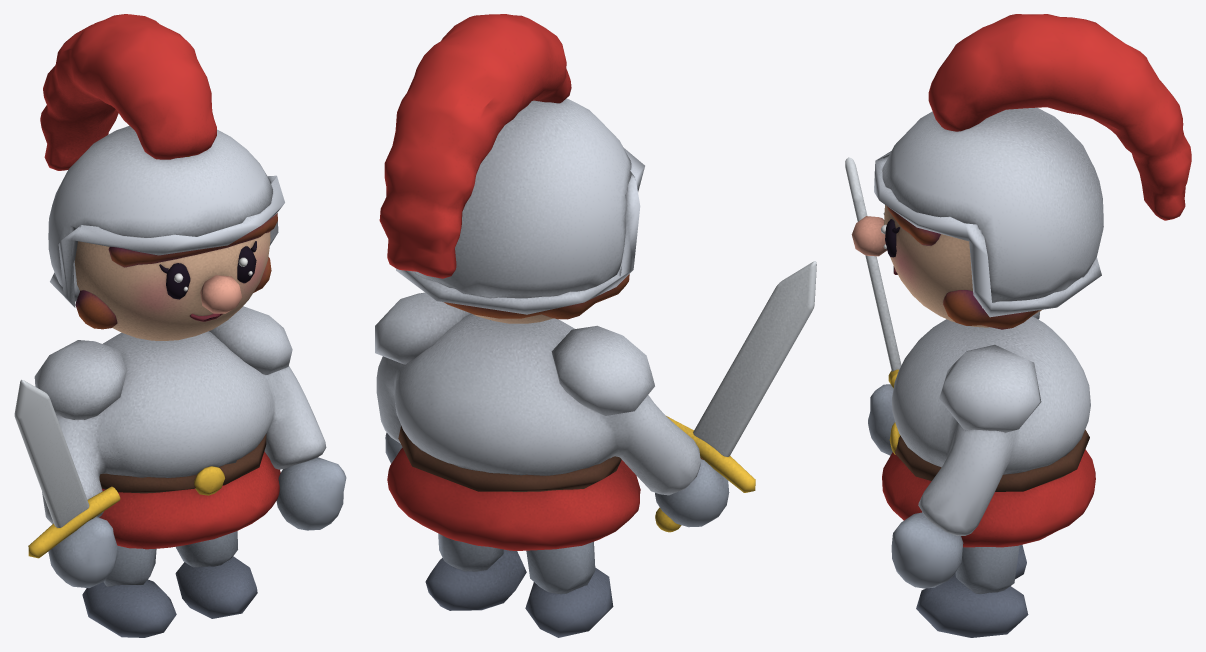
File: knight.glb
3 views of the same model, side by side, from view 1: azimuth 30°, elevation 25°; view 2: azimuth 150°, elevation 25°; view 3: azimuth 270°, elevation 25° (orthographic). The views are drawn at different scales.
Visible parts, largest first — view 1: knight, knight_prop; view 2: knight, knight_prop; view 3: knight, knight_prop.
Part boxes in pixels (box(x1,y1,x2,y2)): knight: box(34, 14, 346, 637); knight_prop: box(14, 379, 120, 558); knight: box(375, 14, 729, 637); knight_prop: box(655, 261, 816, 532); knight: box(851, 14, 1191, 637); knight_prop: box(845, 157, 901, 388).
Size of the model in its own units: 0.8931 by 1.36 by 0.7222.
1 material, 1 textured.
